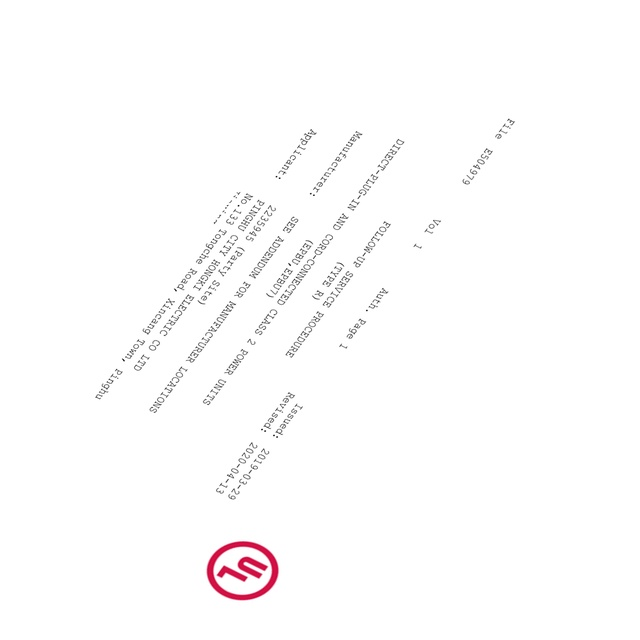ul: (207, 540, 279, 601)
